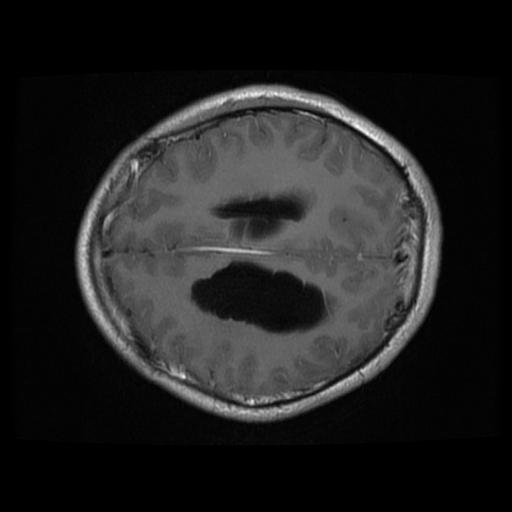glioma: (194, 261, 326, 337)
